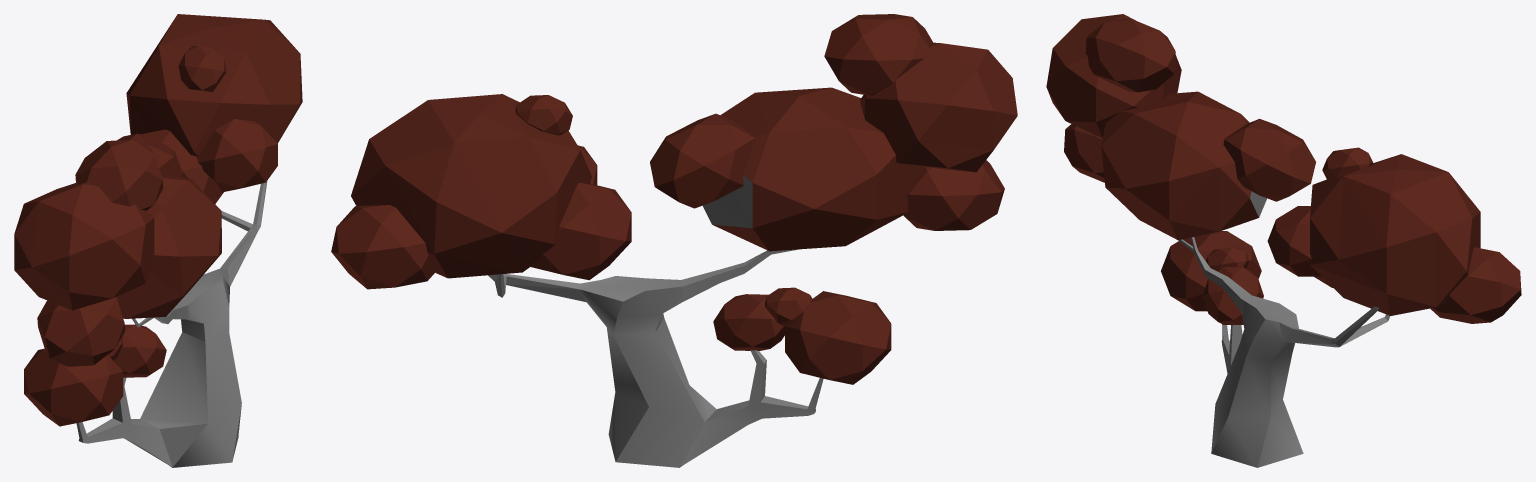
Rendered from Tree2.fbx.
The picture shows the model from 3 angles, left to right: view 1: azimuth 30°, elevation 25°; view 2: azimuth 150°, elevation 25°; view 3: azimuth 270°, elevation 25°; orthographic projection. The views are drawn at different scales.
Parts seen in each view (by area): view 1: Object002; view 2: Object002; view 3: Object002.
Part boxes in pixels (x1,y1,x2,y2): Object002: [14, 14, 302, 467]; Object002: [331, 14, 1017, 467]; Object002: [1046, 14, 1521, 467].
Bounding box in the file's own units: 2.98 × 2.57 × 3.07.
